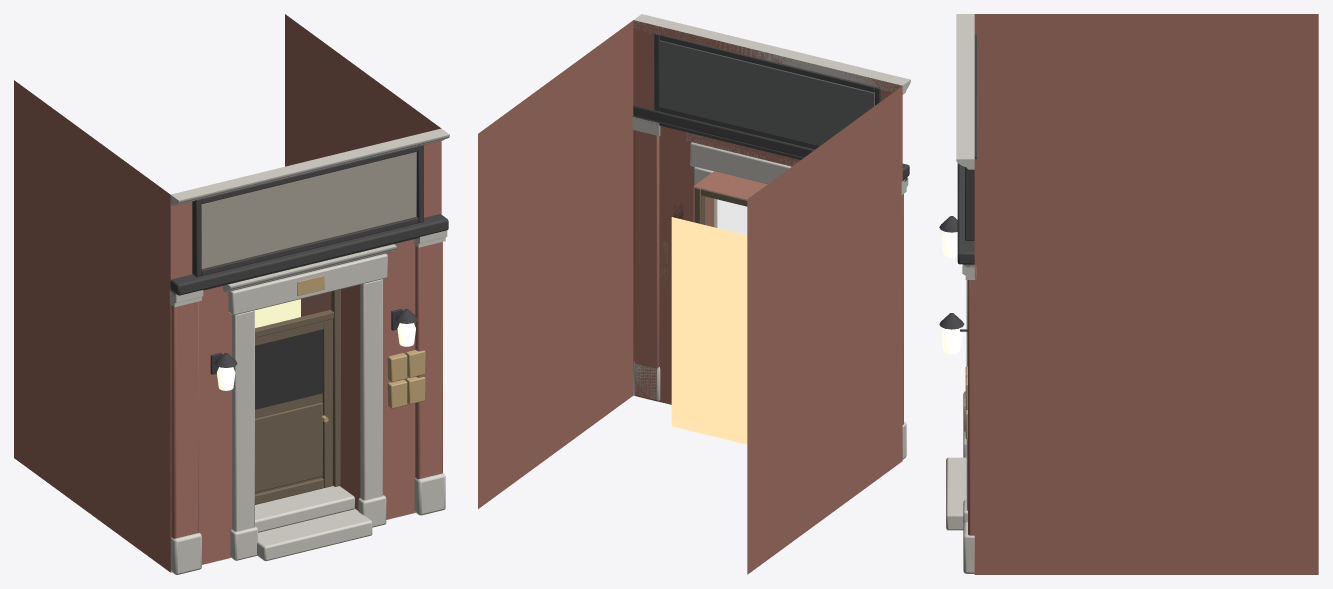
File: doorway_3a.glb
3 views of the same model, side by side, from view 1: azimuth 30°, elevation 25°; view 2: azimuth 150°, elevation 25°; view 3: azimuth 270°, elevation 25° (orthographic). The views are drawn at different scales.
Visible parts, largest first — view 1: doorway_3a; view 2: doorway_3a; view 3: doorway_3a.
Part boxes in pixels (left/top/right/bottom): doorway_3a: left=14, top=14, right=449, bottom=574; doorway_3a: left=478, top=14, right=910, bottom=574; doorway_3a: left=939, top=14, right=1318, bottom=574.
Bounding box in the file's own units: 3 × 4 × 3.31.
